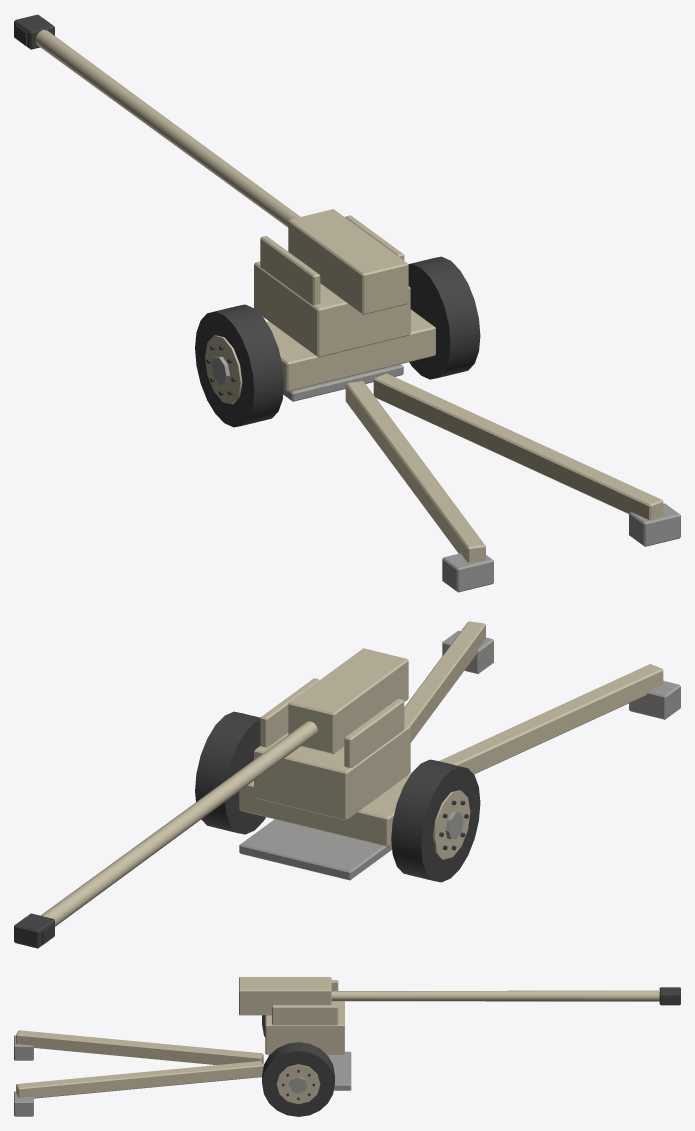
File: rus_tow_giats.glb
The picture shows the model from 3 angles, top to bottom: view 1: azimuth 30°, elevation 25°; view 2: azimuth 150°, elevation 25°; view 3: azimuth 270°, elevation 25°; orthographic projection. The views are drawn at different scales.
Parts seen in each view (by area): view 1: body, barrel, turret, wheel_0, wheel_1; view 2: body, barrel, turret, wheel_0, wheel_1; view 3: body, barrel, wheel_1, turret.
Boxes of the visible parts, x1,y1,x2,y2 form: body: (266, 309, 680, 592); barrel: (14, 14, 408, 314); turret: (254, 215, 410, 357); wheel_0: (195, 304, 284, 427); wheel_1: (408, 256, 480, 379); body: (239, 621, 680, 880); barrel: (14, 648, 408, 948); turret: (254, 678, 410, 820); wheel_0: (391, 759, 480, 882); wheel_1: (195, 711, 265, 834); body: (14, 1030, 351, 1116); barrel: (239, 977, 680, 1015); wheel_1: (262, 1042, 334, 1116); turret: (265, 980, 344, 1054).
Bounding box in the file's own units: 2.54 × 1.67 × 10.08.
